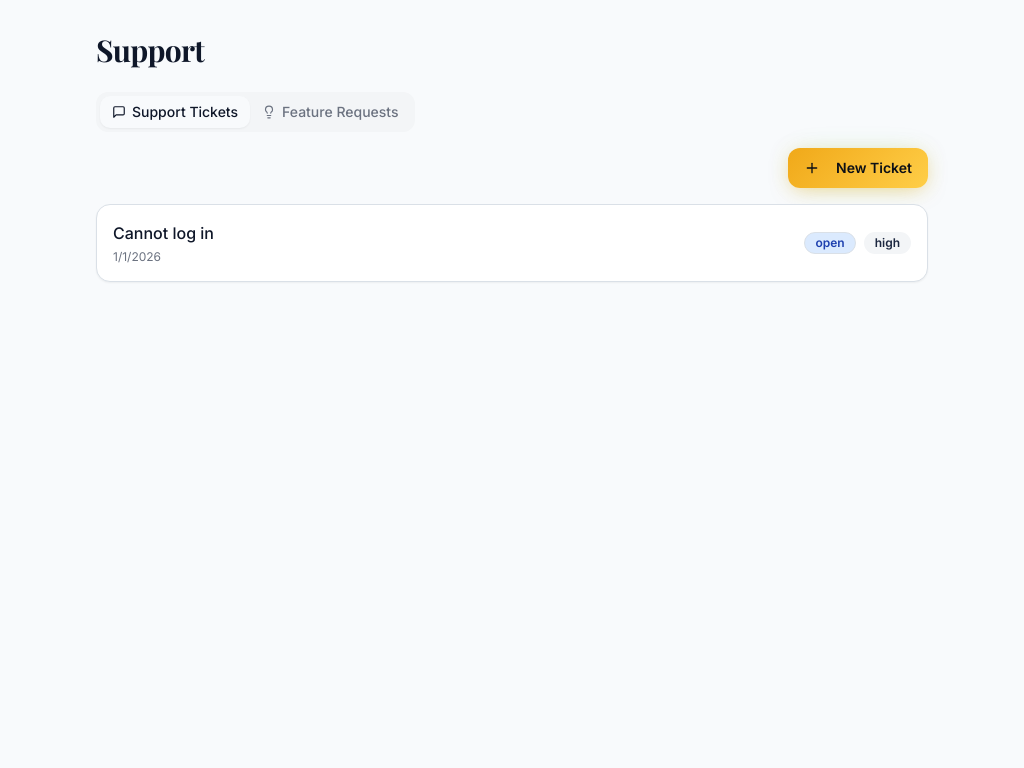
Support › opens a ticket and shows its replies, then sends a new reply
The width and height of the screenshot is (1024, 768).
Later steps or results of the test are not shown.
Click the text "Cannot log in": (164, 233) [113,221,214,245]
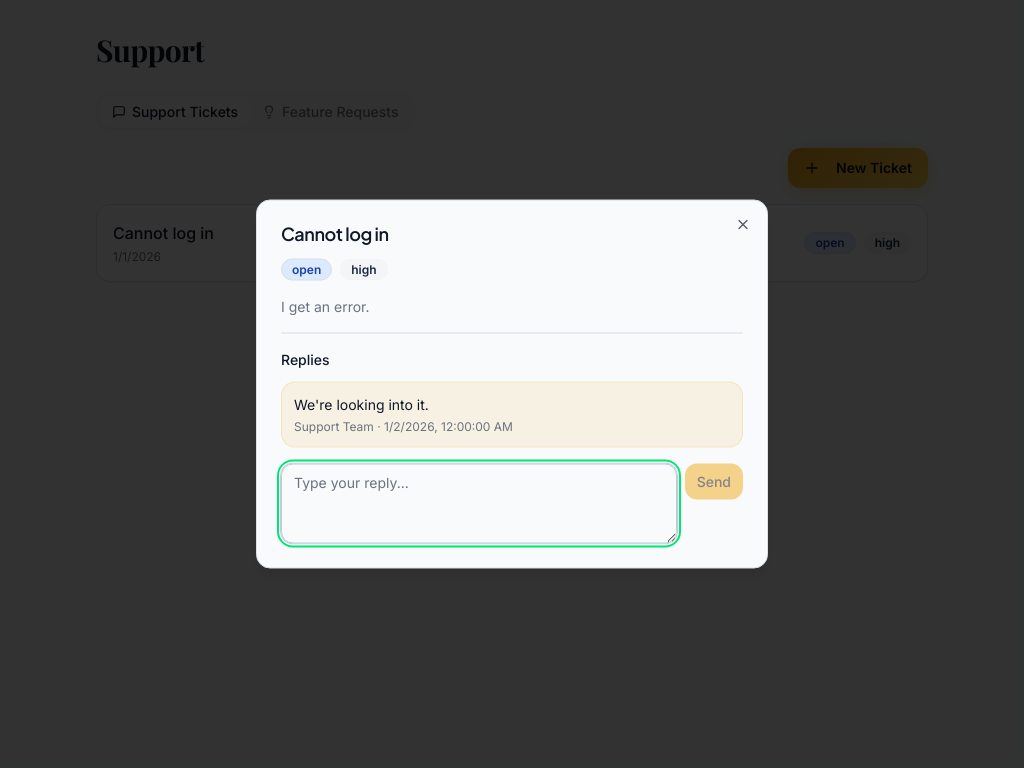
Check: the text "We're looking into it." is shown, box [294,396,429,412]
Check: the text "I get an error." is shown, box [281,298,370,314]
